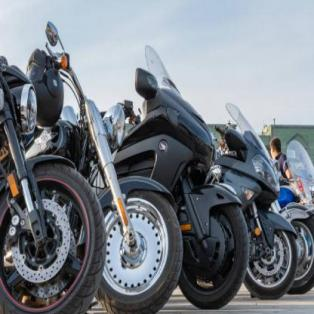Motocicleta: (49, 27, 182, 313), (122, 35, 251, 313), (0, 50, 108, 313), (223, 86, 300, 313)
